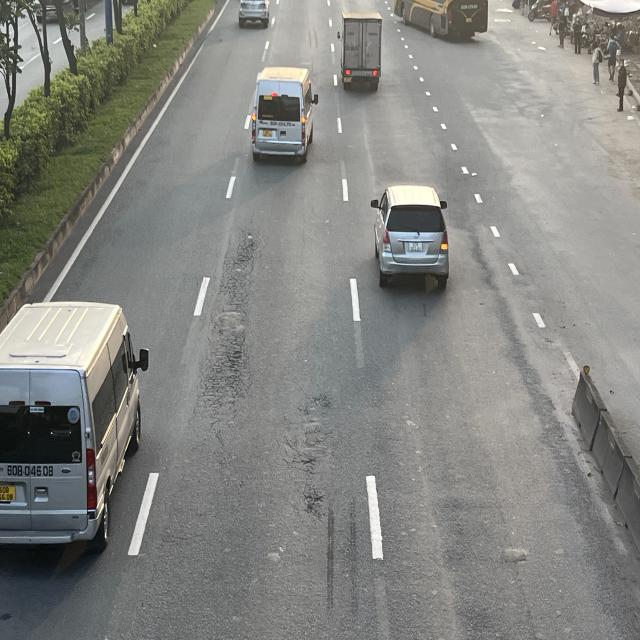car: (372, 184, 450, 290), (238, 0, 270, 26)
coach: (393, 0, 488, 38)
truck: (339, 11, 383, 90)
van: (0, 297, 149, 553), (249, 65, 317, 163)
